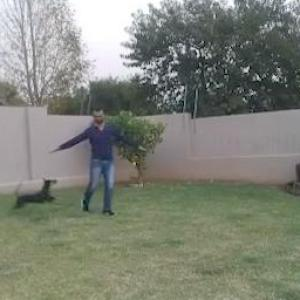land: (55, 103, 141, 205)
